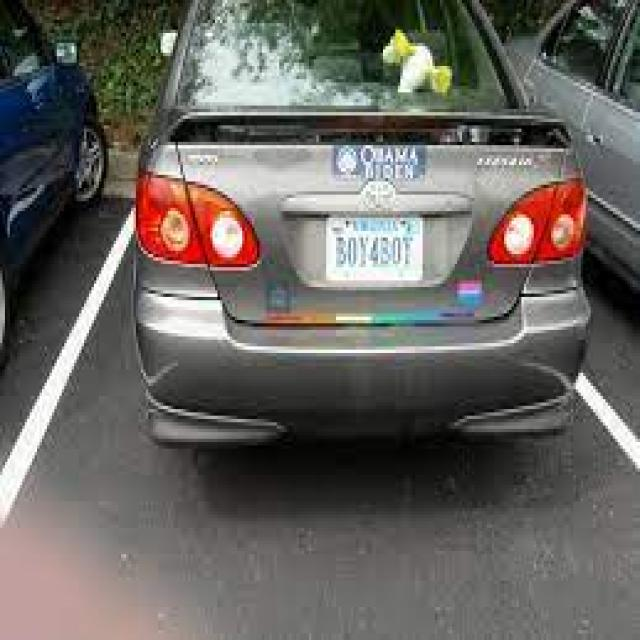license: (321, 201, 432, 291)
